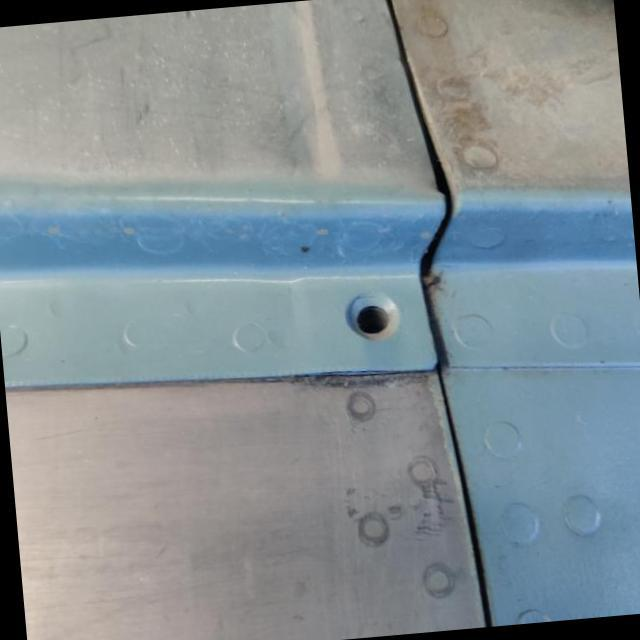Fastener Damage: (312, 266, 435, 372)
